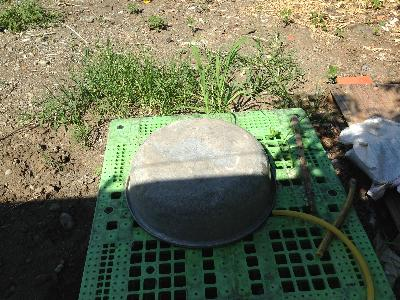bowl: (127, 117, 277, 248)
